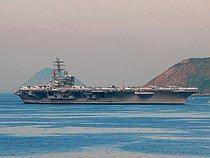MIL_Ship: (15, 57, 200, 105)
